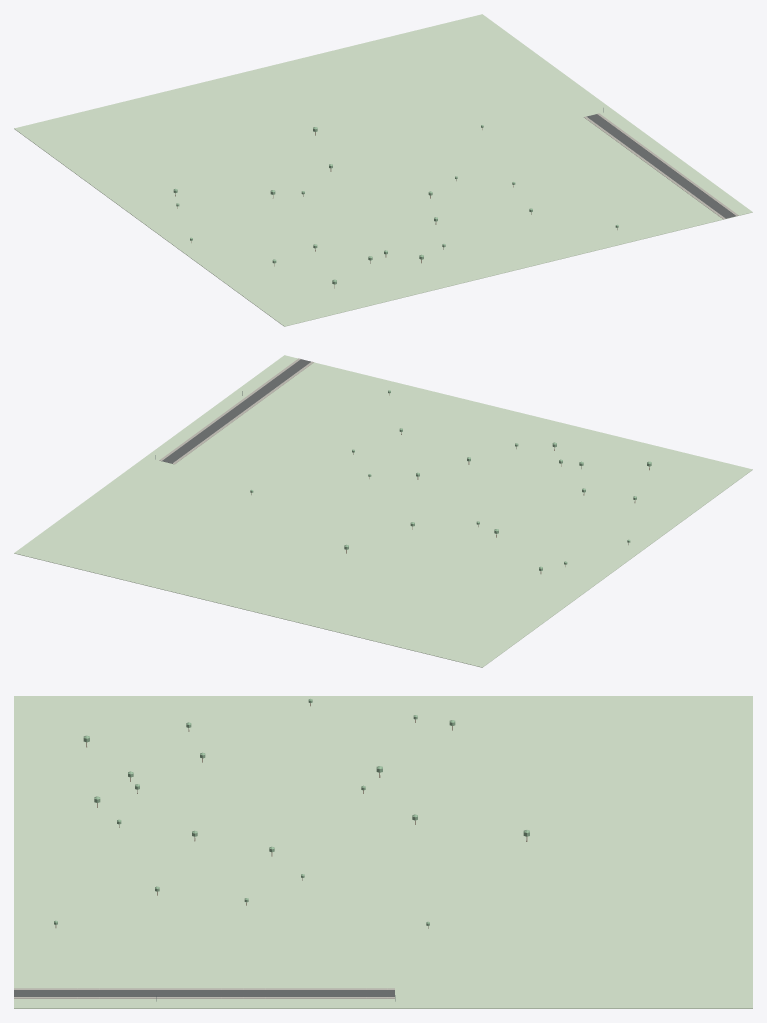
Rendered from chunk_5_0_low.glb.
The picture shows the model from 3 angles, top to bottom: view 1: azimuth 30°, elevation 25°; view 2: azimuth 150°, elevation 25°; view 3: azimuth 270°, elevation 25°; orthographic projection. The views are drawn at different scales.
Parts seen in each view (by area): view 1: city_grass, city_world_asphalt, city_world_sidewalk; view 2: city_grass, city_world_asphalt, city_world_sidewalk; view 3: city_grass, city_world_asphalt, city_world_sidewalk, city_curb, city_foliage_dark.
Part boxes in pixels (x1,y1,x2,y2): city_grass: [14, 14, 752, 326]; city_world_asphalt: [586, 114, 735, 218]; city_world_sidewalk: [584, 113, 738, 219]; city_grass: [14, 355, 752, 667]; city_world_asphalt: [162, 359, 310, 463]; city_world_sidewalk: [159, 358, 313, 464]; city_grass: [14, 696, 752, 1008]; city_world_asphalt: [14, 990, 394, 996]; city_world_sidewalk: [14, 988, 394, 998]; city_curb: [14, 988, 394, 998]; city_foliage_dark: [54, 699, 529, 925].
Size of the model in its own units: 512 by 9.62 by 512.
